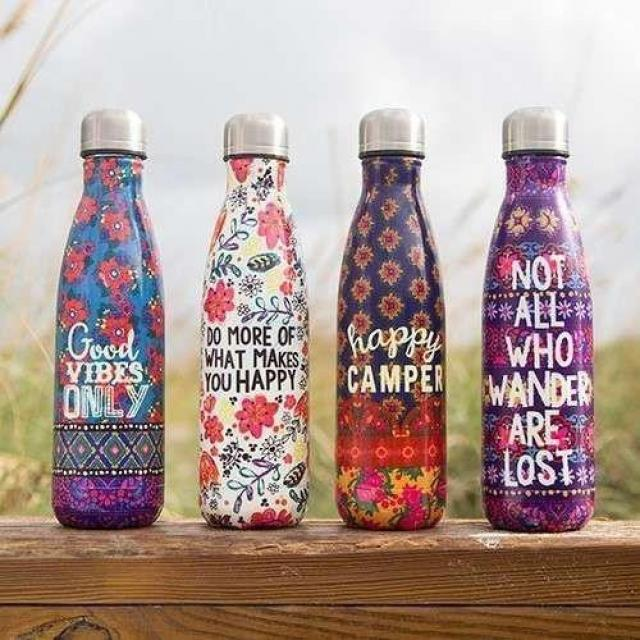gym bottle: (194, 106, 318, 532), (476, 106, 599, 535), (49, 101, 169, 533), (331, 106, 452, 531)
